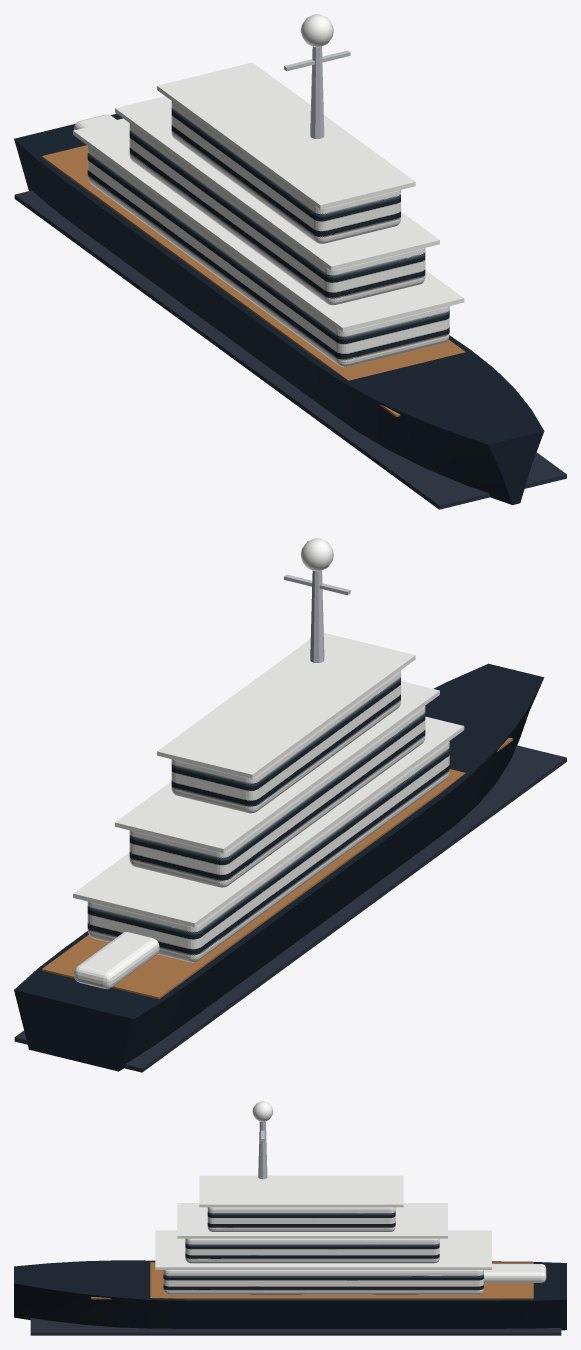
Rendered from superyacht_navy.glb.
The picture shows the model from 3 angles, top to bottom: view 1: azimuth 30°, elevation 25°; view 2: azimuth 150°, elevation 25°; view 3: azimuth 270°, elevation 25°; orthographic projection. The views are drawn at different scales.
Parts seen in each view (by area): view 1: yacht; view 2: yacht; view 3: yacht.
Boxes of the visible parts, x1,y1,x2,y2 form: yacht: (14, 14, 566, 509); yacht: (14, 538, 566, 1072); yacht: (14, 1101, 566, 1335).
Bounding box in the file's own units: 8.16 × 20.51 × 48.
6 materials, 1 textured.
